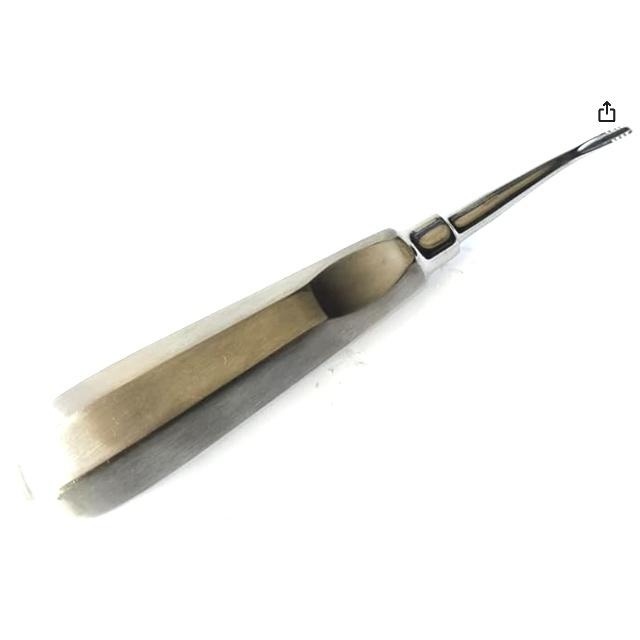botador: (10, 126, 630, 521)
